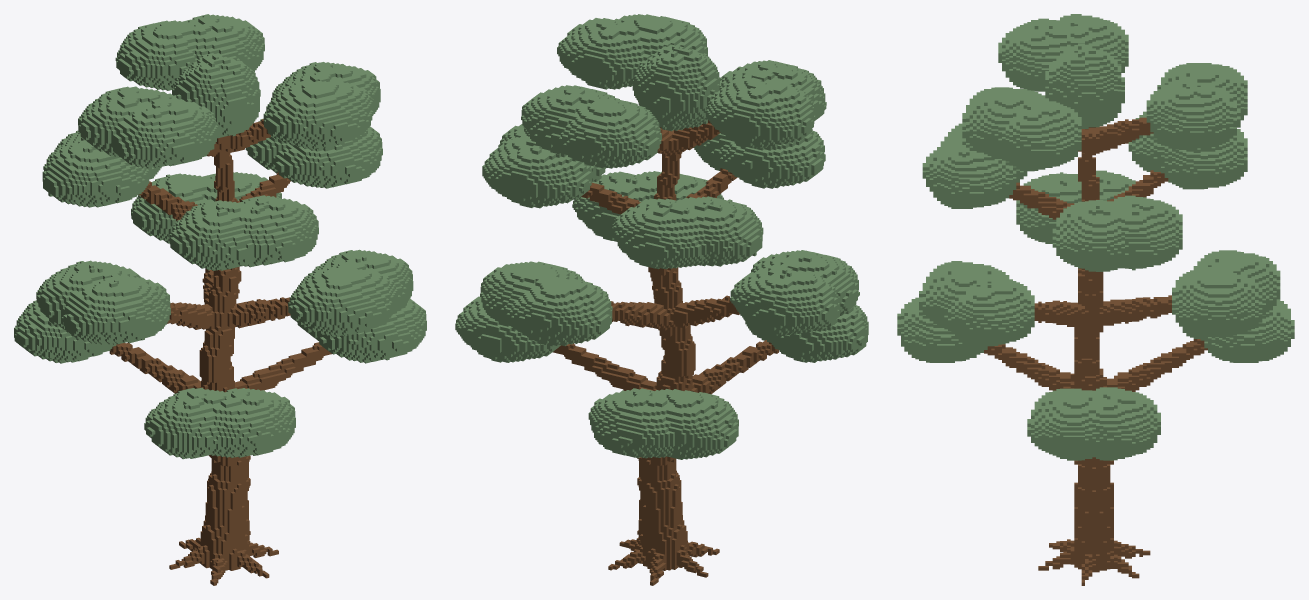
The picture shows the model from 3 angles, left to right: view 1: azimuth 30°, elevation 25°; view 2: azimuth 150°, elevation 25°; view 3: azimuth 270°, elevation 25°; orthographic projection.
Parts seen in each view (by area): view 1: 既有乔木色阶与高度族; view 2: 既有乔木色阶与高度族; view 3: 既有乔木色阶与高度族.
Part boxes in pixels (bbox=[...]): 既有乔木色阶与高度族: bbox=[14, 14, 426, 585]; 既有乔木色阶与高度族: bbox=[455, 14, 868, 585]; 既有乔木色阶与高度族: bbox=[897, 14, 1294, 585].
Bounding box in the file's own units: 23 × 31 × 22.
3 materials, 3 textured.
